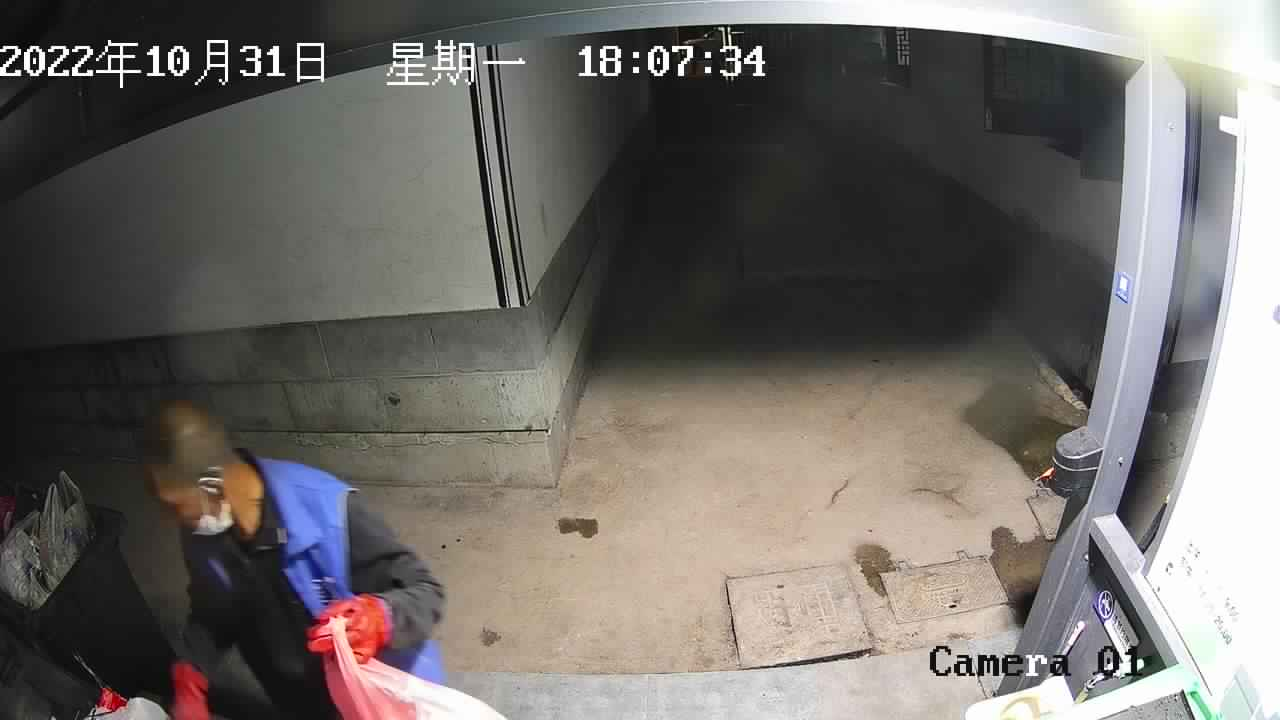garbage-bag: (322, 614, 512, 720)
worker: (136, 399, 449, 720)
